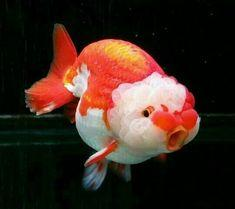goldfish: (32, 31, 213, 182)
